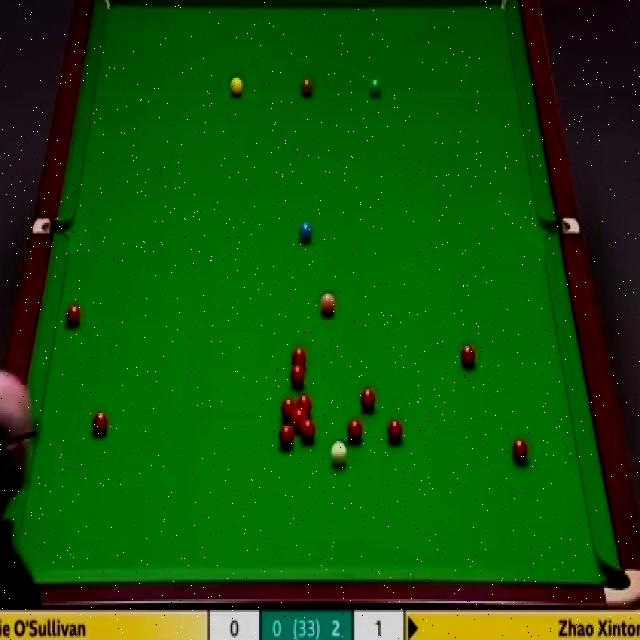blue-ball: (298, 219, 314, 244)
brown-ball: (300, 75, 314, 97)
green-ball: (367, 75, 382, 97)
pink-ball: (317, 293, 337, 316)
red-ball: (459, 343, 477, 370), (91, 409, 109, 435), (360, 386, 378, 412), (64, 304, 83, 328), (346, 418, 363, 444), (386, 419, 403, 445), (512, 438, 528, 464), (280, 399, 297, 422), (290, 364, 306, 388), (300, 420, 316, 443), (296, 393, 313, 414), (279, 424, 294, 447), (291, 348, 307, 368), (292, 408, 306, 428)
white-ball: (329, 442, 348, 469)
yellow-ball: (230, 76, 244, 97)
